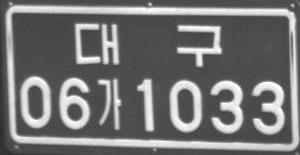0: (168, 77, 203, 133), (20, 75, 52, 129)
1: (133, 78, 162, 132)
3: (252, 80, 285, 136), (210, 79, 243, 134)
6: (58, 76, 90, 130)
가: (96, 77, 122, 129)
대구_D: (74, 22, 222, 68)
